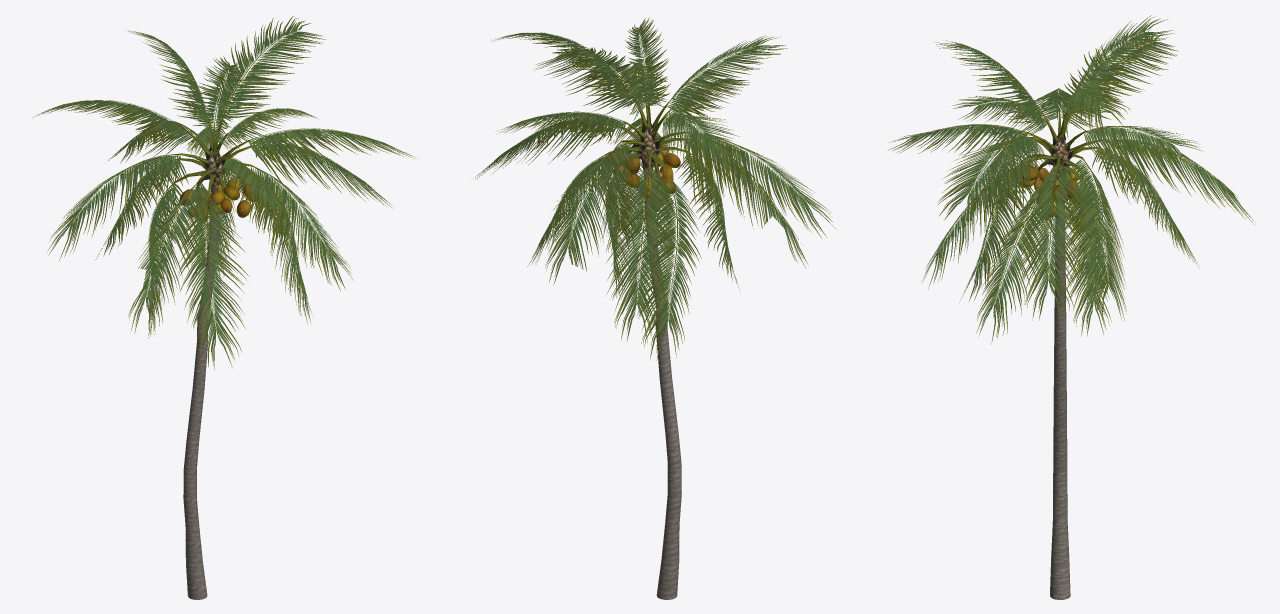
File: coconut_single.glb
The picture shows the model from 3 angles, left to right: view 1: azimuth 30°, elevation 25°; view 2: azimuth 150°, elevation 25°; view 3: azimuth 270°, elevation 25°; orthographic projection. The views are drawn at different scales.
Visible parts, largest first — view 1: Tree_2_Tree_2Mat_0, Tree_0_Tree_0Mat_0, Tree_3_Tree_3Mat_0, Tree_4_Tree_4Mat_0; view 2: Tree_2_Tree_2Mat_0, Tree_0_Tree_0Mat_0, Tree_3_Tree_3Mat_0, Tree_4_Tree_4Mat_0; view 3: Tree_2_Tree_2Mat_0, Tree_0_Tree_0Mat_0, Tree_3_Tree_3Mat_0, Tree_4_Tree_4Mat_0.
Part boxes in pixels (bbox=[...]): Tree_2_Tree_2Mat_0: bbox=[32, 16, 418, 369]; Tree_0_Tree_0Mat_0: bbox=[183, 193, 218, 599]; Tree_3_Tree_3Mat_0: bbox=[167, 109, 258, 205]; Tree_4_Tree_4Mat_0: bbox=[179, 174, 255, 221]; Tree_2_Tree_2Mat_0: bbox=[473, 17, 835, 360]; Tree_0_Tree_0Mat_0: bbox=[644, 174, 681, 599]; Tree_3_Tree_3Mat_0: bbox=[601, 92, 695, 192]; Tree_4_Tree_4Mat_0: bbox=[608, 144, 680, 212]; Tree_2_Tree_2Mat_0: bbox=[888, 15, 1255, 344]; Tree_0_Tree_0Mat_0: bbox=[1050, 202, 1070, 599]; Tree_3_Tree_3Mat_0: bbox=[1022, 104, 1107, 203]; Tree_4_Tree_4Mat_0: bbox=[1019, 166, 1081, 220].
Size of the model in its own units: 4.34 by 6.28 by 3.92.
5 materials, 5 textured.
